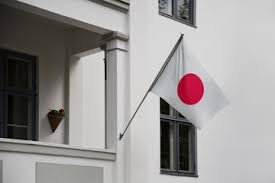Japanese Flag: (143, 34, 238, 133)
